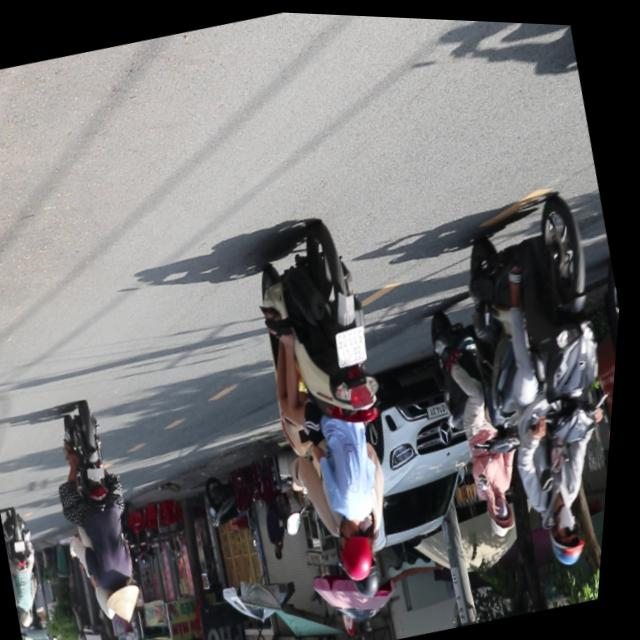helmet: (337, 509, 393, 582), (548, 493, 601, 566), (354, 552, 401, 604)
licenseplate: (224, 207, 452, 619), (427, 180, 630, 579), (38, 393, 171, 640)
motorcyclist: (112, 578, 157, 628), (490, 485, 527, 534)
nohelmet: (337, 322, 377, 364)
